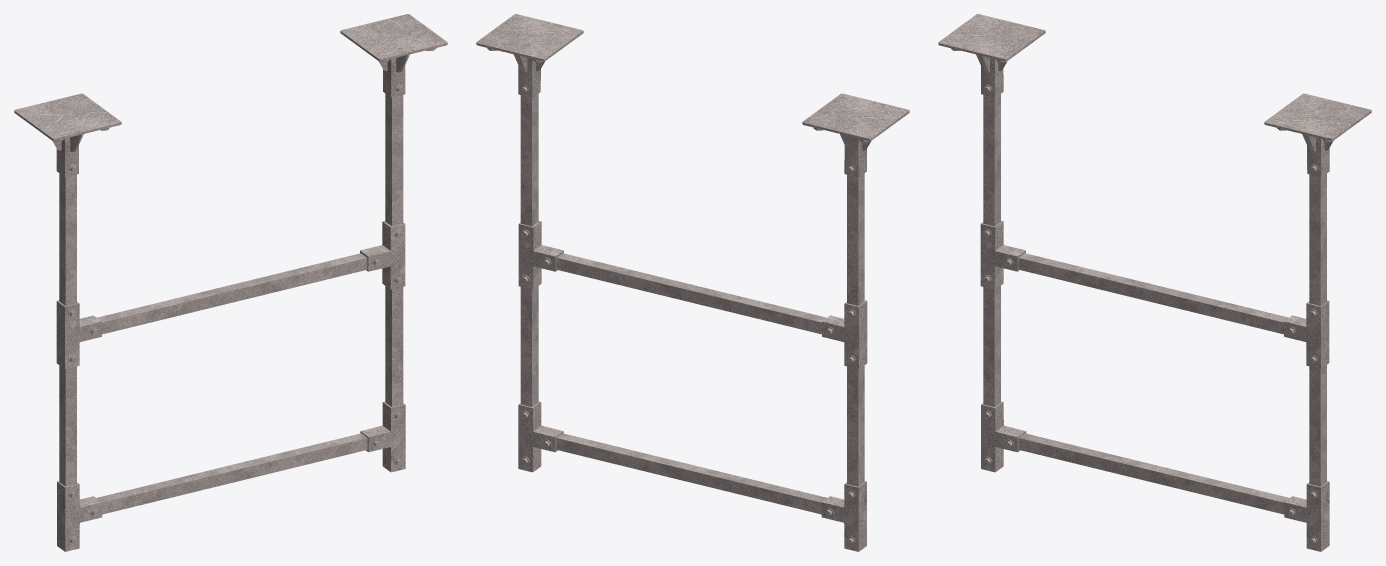
Rendered from SM_Square_Ducting_01o.glb.
3 views of the same model, side by side, from view 1: azimuth 30°, elevation 25°; view 2: azimuth 150°, elevation 25°; view 3: azimuth 330°, elevation 25° (orthographic).
Visible parts, largest first — view 1: SM_Square_Ducting_01o; view 2: SM_Square_Ducting_01o; view 3: SM_Square_Ducting_01o.
Part boxes in pixels (<box>): SM_Square_Ducting_01o: <box>14,14,447,551</box>; SM_Square_Ducting_01o: <box>476,14,909,551</box>; SM_Square_Ducting_01o: <box>938,14,1371,551</box>.
Bounding box in the file's own units: 1.34 × 1.4 × 0.2335.
Materials: 1 (1 with a texture image).
